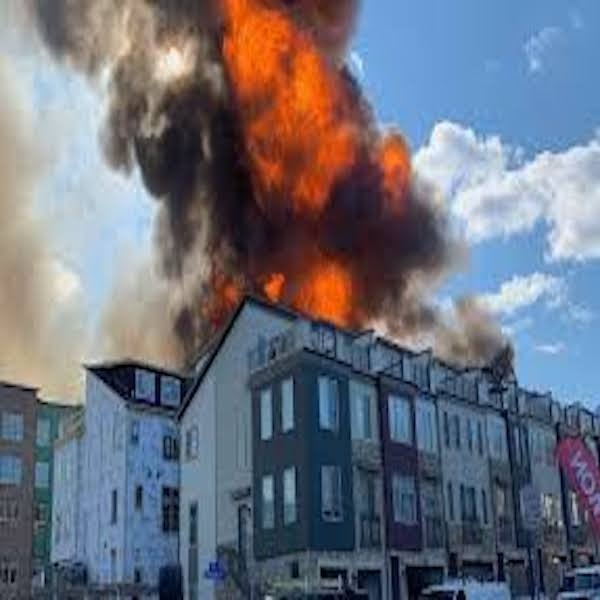fire: (219, 25, 378, 320), (125, 58, 344, 210)
